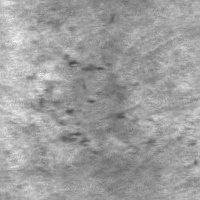rolled-in_scale: (40, 51, 124, 151), (166, 113, 200, 165)
